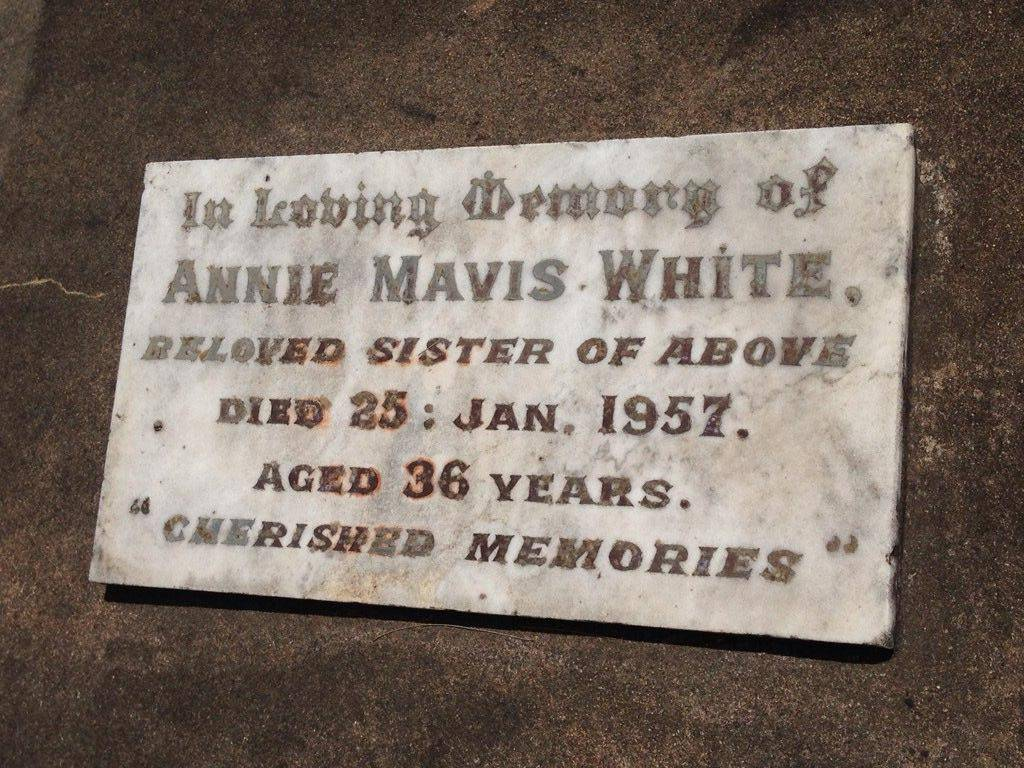plaque: (84, 124, 916, 643)
